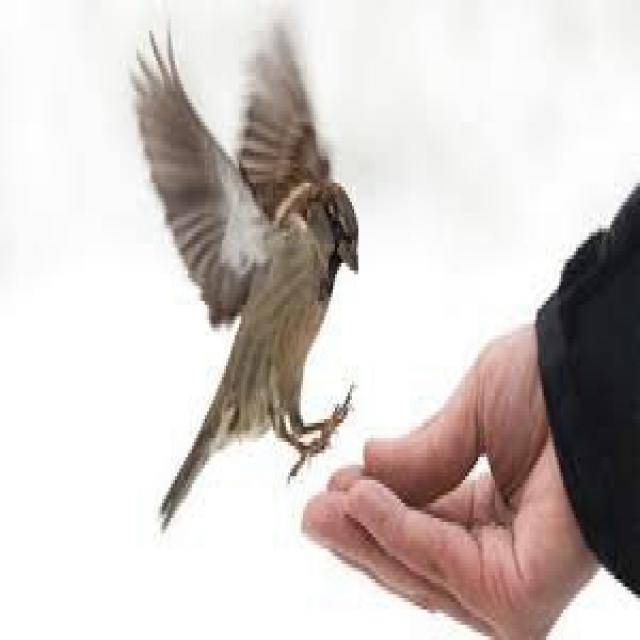sparrow: (139, 30, 356, 522)
